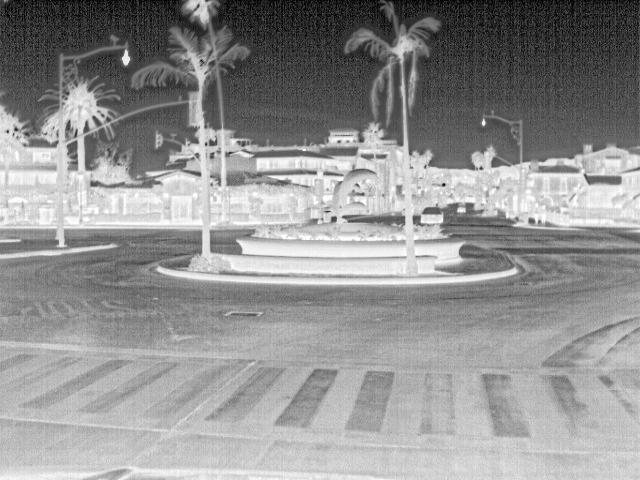car: (418, 207, 444, 224), (454, 204, 466, 214)
person: (538, 203, 548, 228), (532, 202, 541, 227)
